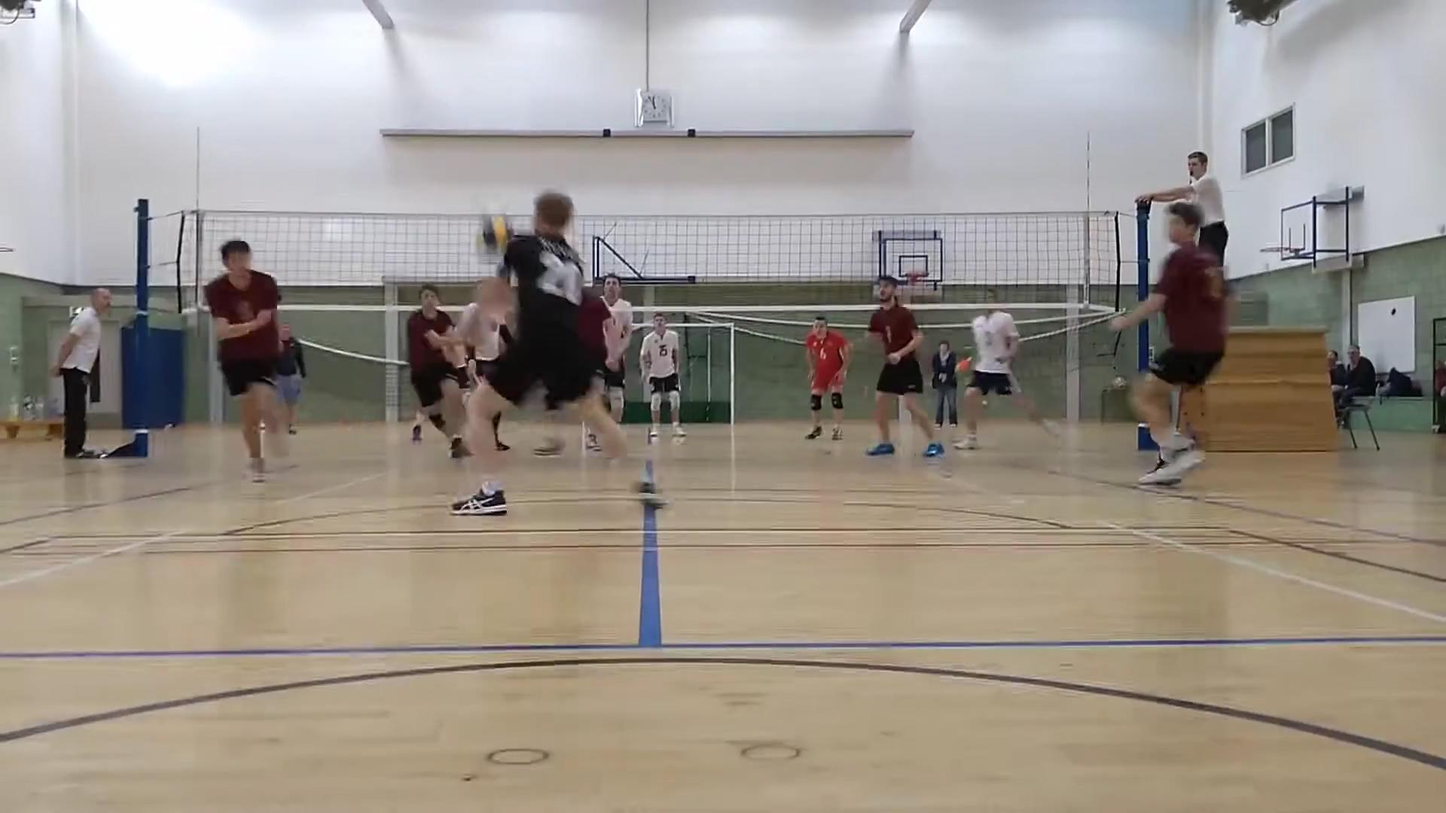Player: (1111, 202, 1230, 484), (204, 240, 288, 481), (955, 307, 1057, 449), (867, 276, 943, 457), (407, 285, 467, 458), (639, 313, 685, 440), (804, 315, 850, 440), (456, 302, 508, 396), (578, 290, 611, 384), (602, 274, 633, 347), (410, 408, 425, 443)
Receive: (442, 186, 667, 528)
ball: (469, 207, 519, 254)
